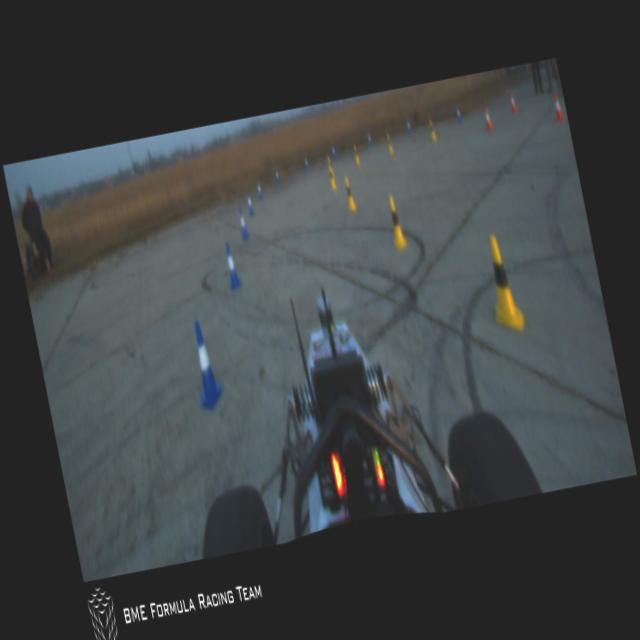blue_cone: (184, 317, 228, 412), (222, 241, 242, 292), (237, 207, 250, 242), (245, 192, 255, 216), (255, 178, 264, 200), (454, 104, 463, 124), (406, 118, 412, 136), (274, 168, 280, 184), (304, 155, 310, 171), (331, 144, 336, 160), (367, 132, 372, 148)
orange_cone: (550, 90, 566, 124), (481, 105, 494, 132), (508, 91, 519, 114)
yellow_cone: (480, 231, 528, 338), (384, 192, 409, 252), (341, 173, 358, 216), (326, 164, 338, 191), (326, 155, 336, 177), (428, 120, 438, 142), (352, 144, 361, 166), (386, 134, 394, 156)
